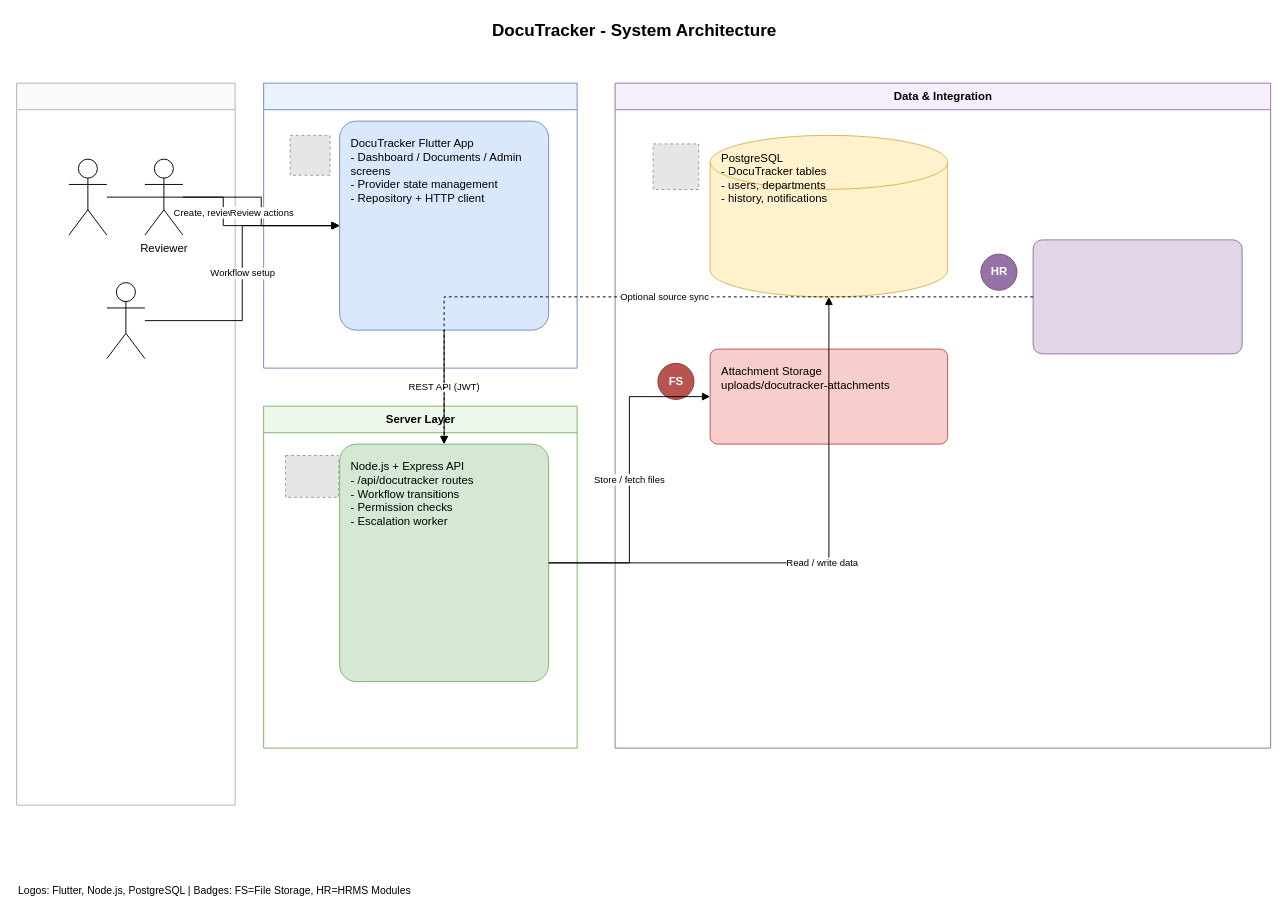
The diagram is 1287 pixels wide and 916 high, and some of its shapes have lost their labels. Grey dashed boxes stand in for pictures. Each missing label, with the box of its shape:
Actors: (16, 82, 235, 805)
Administrator: (106, 282, 145, 359)
Client Layer: (263, 82, 577, 368)
Employee: (68, 158, 107, 235)
HRMS Source Modules LD / DTR / RSP (source-linked documents): (1032, 239, 1242, 354)
